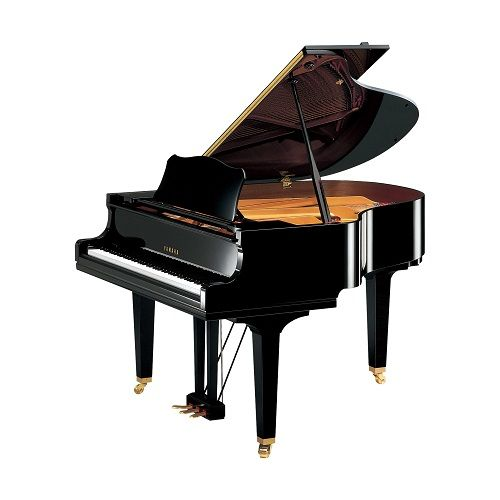GrandPiano: (71, 35, 441, 337)
